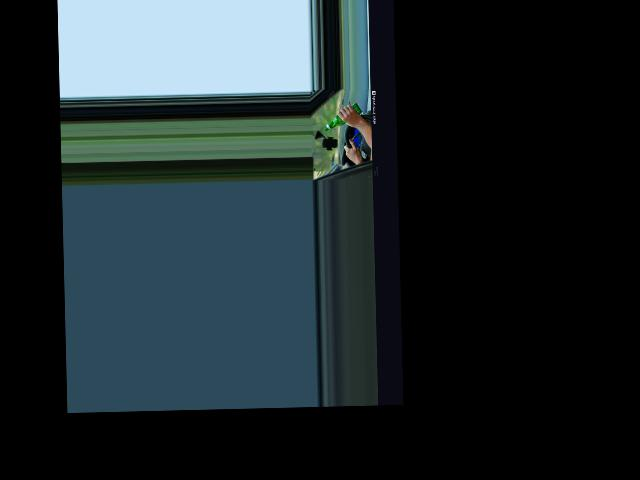beer: (324, 104, 362, 131)
